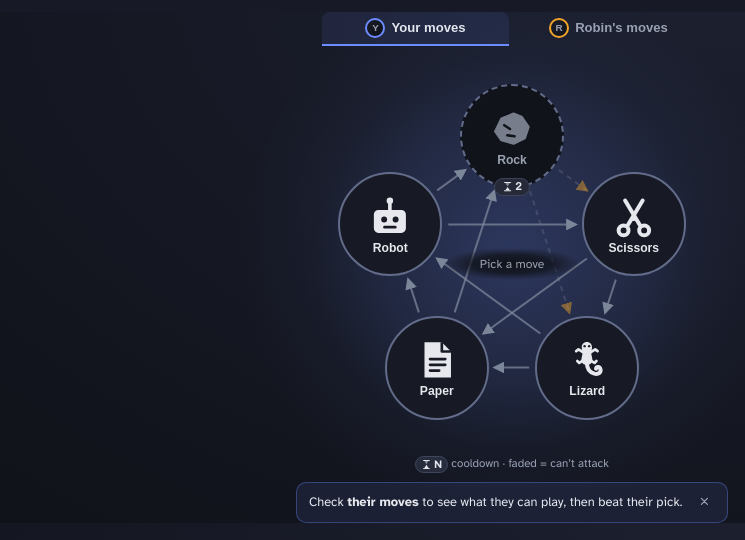
Test: <MovePicker> buttons carry only your own state (JQ 2.1/2.2) › answers "why can I not play this?" when you tap it
Click the button "Rock 2": coordinates (512, 136) [460, 84, 564, 188]
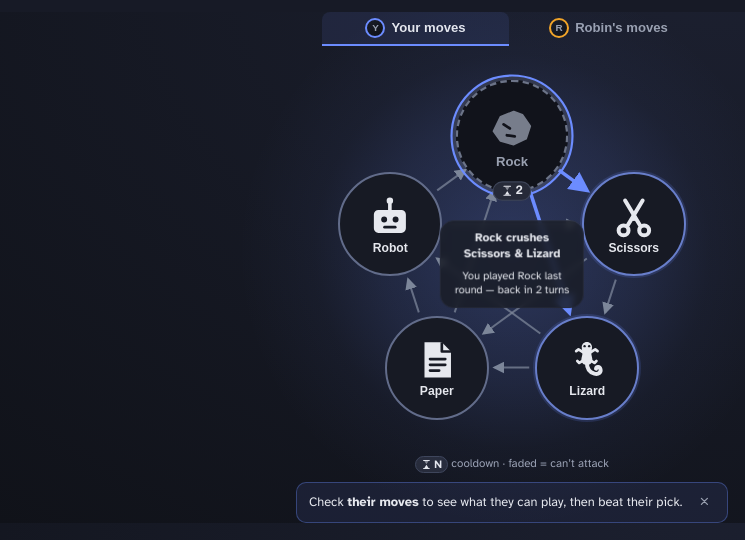
Check: the element that starts with "Rock crushes Scissors & Lizard" shows "You played Rock last round", box [455, 269, 562, 296]
Check: the element that starts with "Rock crushes Scissors & Lizard" shows "back in 2 turns", box [498, 284, 569, 296]
